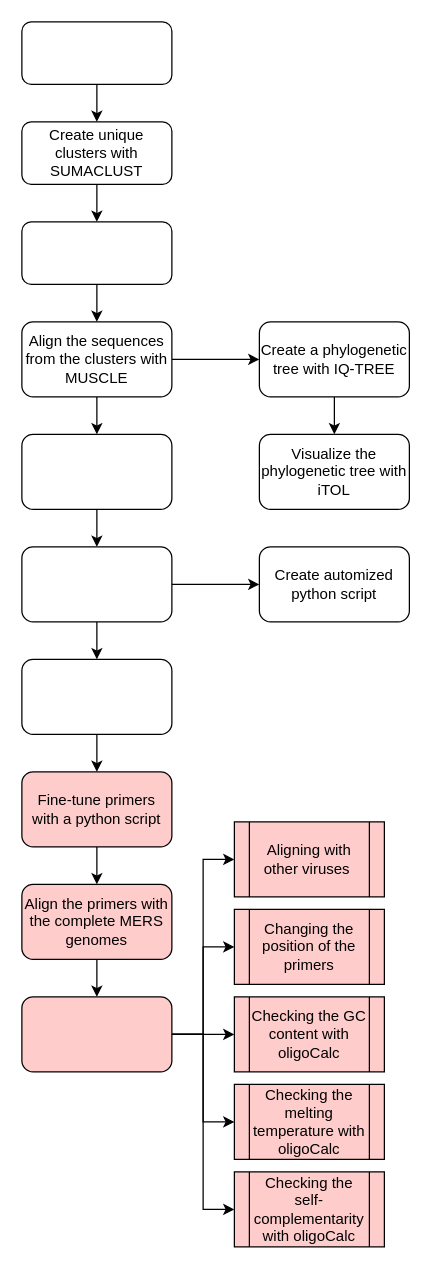
Image size: 431x1269. Some labels were removed from this diagram. Here are the shapes that lost their labels. From the top down, the centre of each, then its label:
the point at 96,52: Import complete MERS genomes from NCBI
the point at 96,252: Separate clusters with a python script
the point at 96,471: Prepare sequences for Primer 3 with a python script
the point at 96,584: Design the primers in Primer 3
the point at 96,696: Create primer pairs with a python script
the point at 96,1034: Fine-tuning the primers
